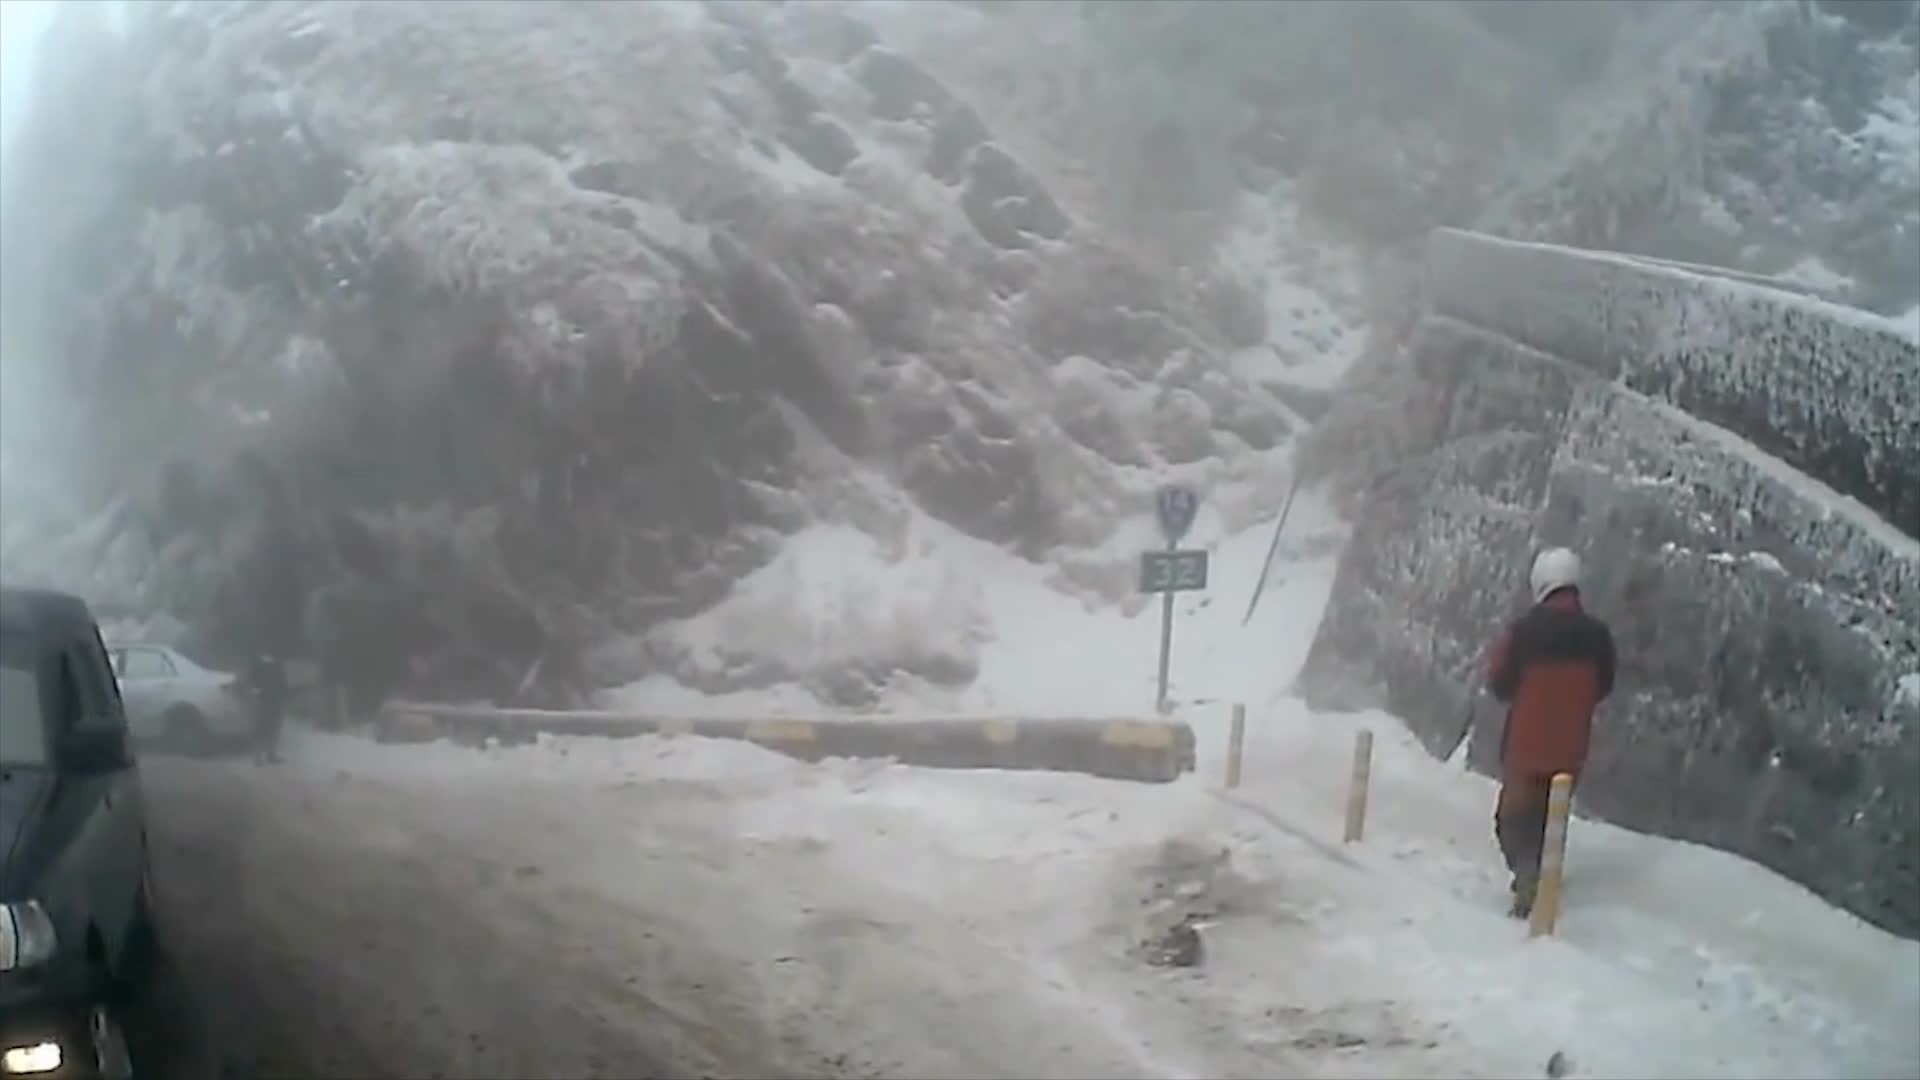pedestrian: (1478, 541, 1613, 915), (244, 645, 292, 768)
vehicle: (0, 590, 171, 1080), (0, 643, 250, 761)
